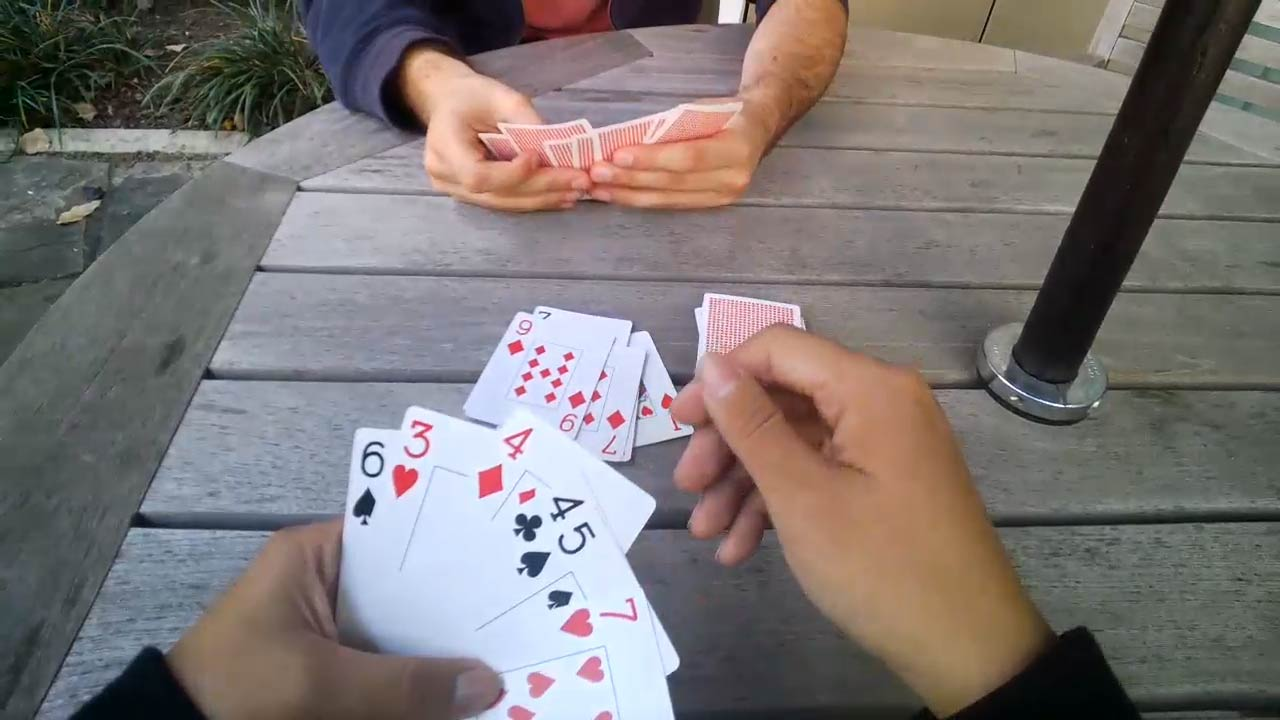hand: (671, 323, 1049, 708), (165, 523, 505, 716), (426, 76, 586, 209), (587, 98, 770, 204)
